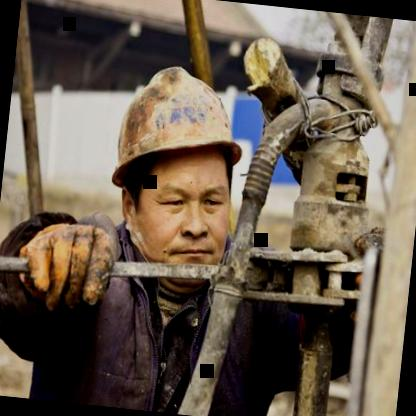helmet: (80, 38, 272, 290)
